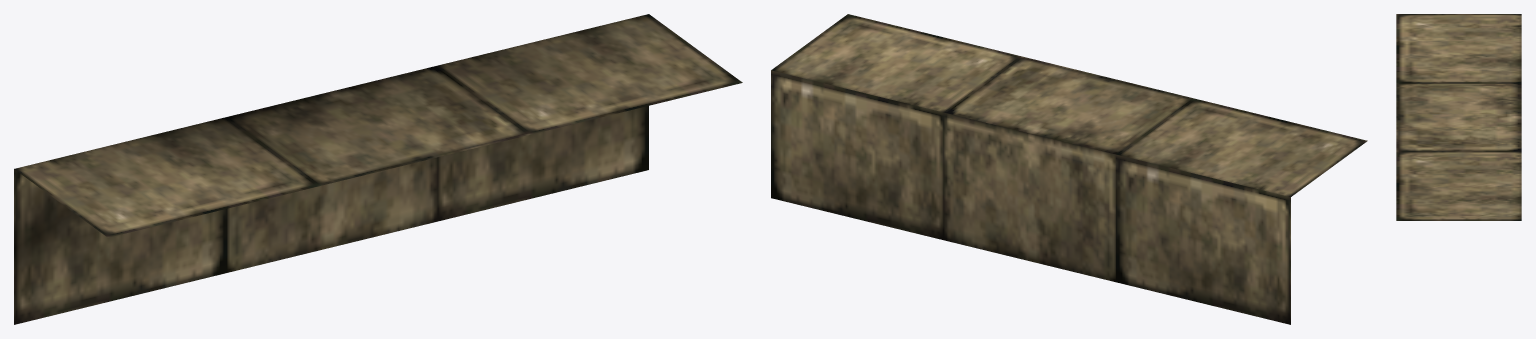
Rendered from OVERHILL_A_01_OBJECT307.fbx.
The picture shows the model from 3 angles, left to right: view 1: azimuth 30°, elevation 25°; view 2: azimuth 150°, elevation 25°; view 3: azimuth 270°, elevation 25°; orthographic projection. The views are drawn at different scales.
Parts seen in each view (by area): view 1: OVERHILL_A_01_OBJECT307; view 2: OVERHILL_A_01_OBJECT307; view 3: OVERHILL_A_01_OBJECT307.
Part boxes in pixels (left/top/right/bottom): OVERHILL_A_01_OBJECT307: left=14, top=14, right=742, bottom=324; OVERHILL_A_01_OBJECT307: left=771, top=14, right=1367, bottom=324; OVERHILL_A_01_OBJECT307: left=1396, top=14, right=1521, bottom=220.
Size of the model in its own units: 32635 by 7663 by 8372.
Materials: 1 (1 with a texture image).
